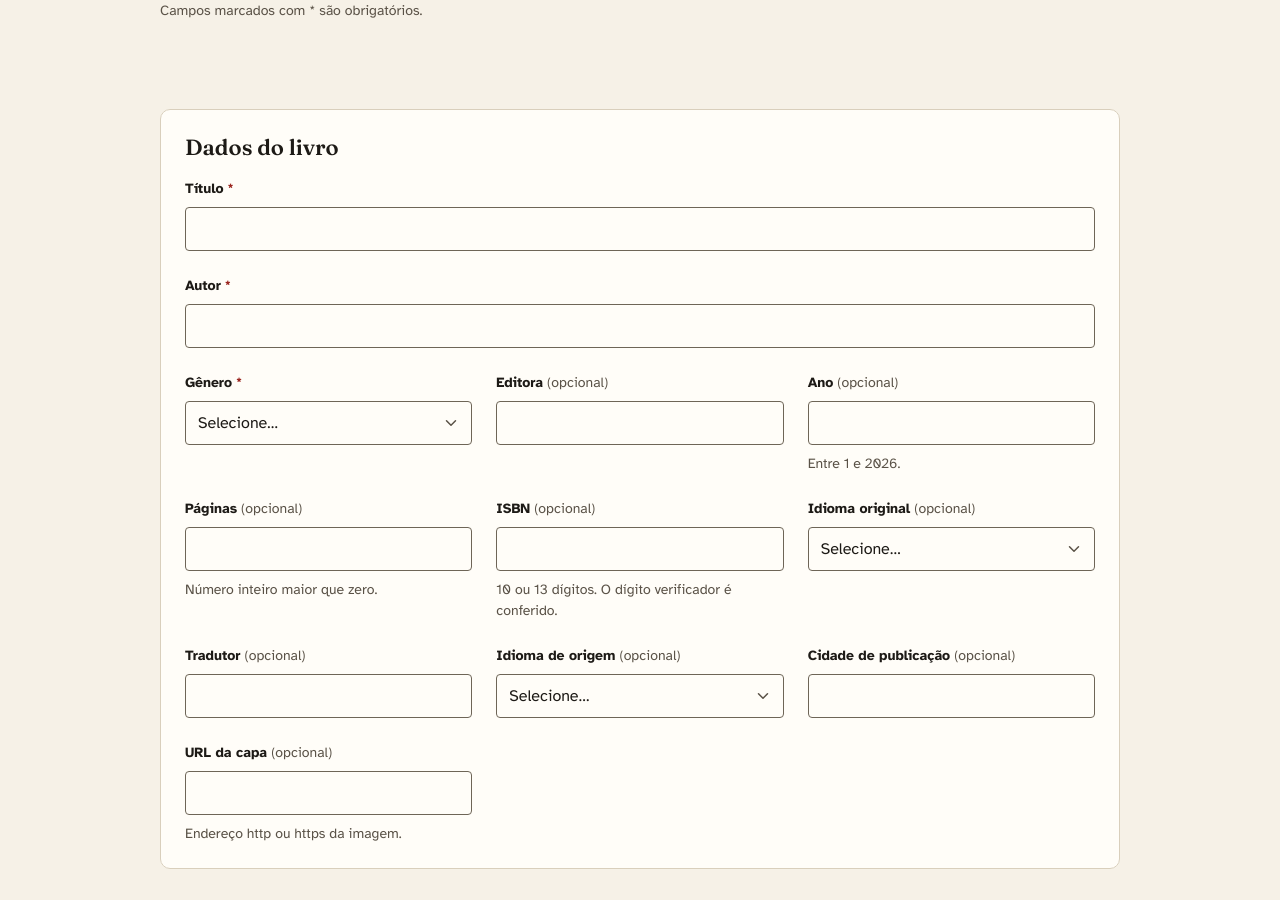
Test: região de status: polida, presente desde o 1º render › anuncia o SUCESSO da submissão
The width and height of the screenshot is (1280, 900).
Type "Dom Casmurro" into the field labelled "Título *".
click(640, 228); type("Dom Casmurro")  # box top-left (185, 206), bottom-right (1095, 250)
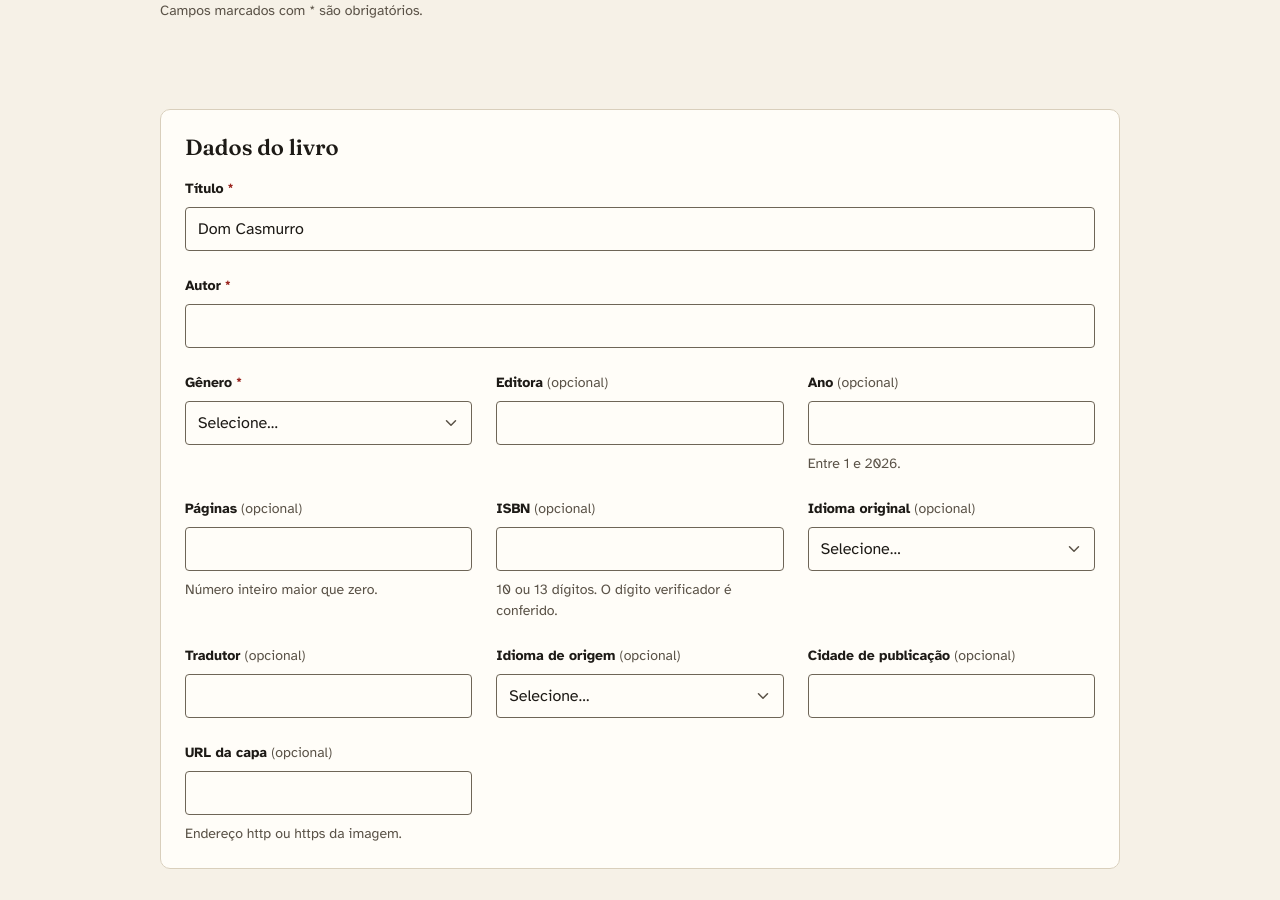
Type "Machado de Assis" into the field labelled "Autor *".
click(640, 326); type("Machado de Assis")  # box top-left (185, 304), bottom-right (1095, 348)
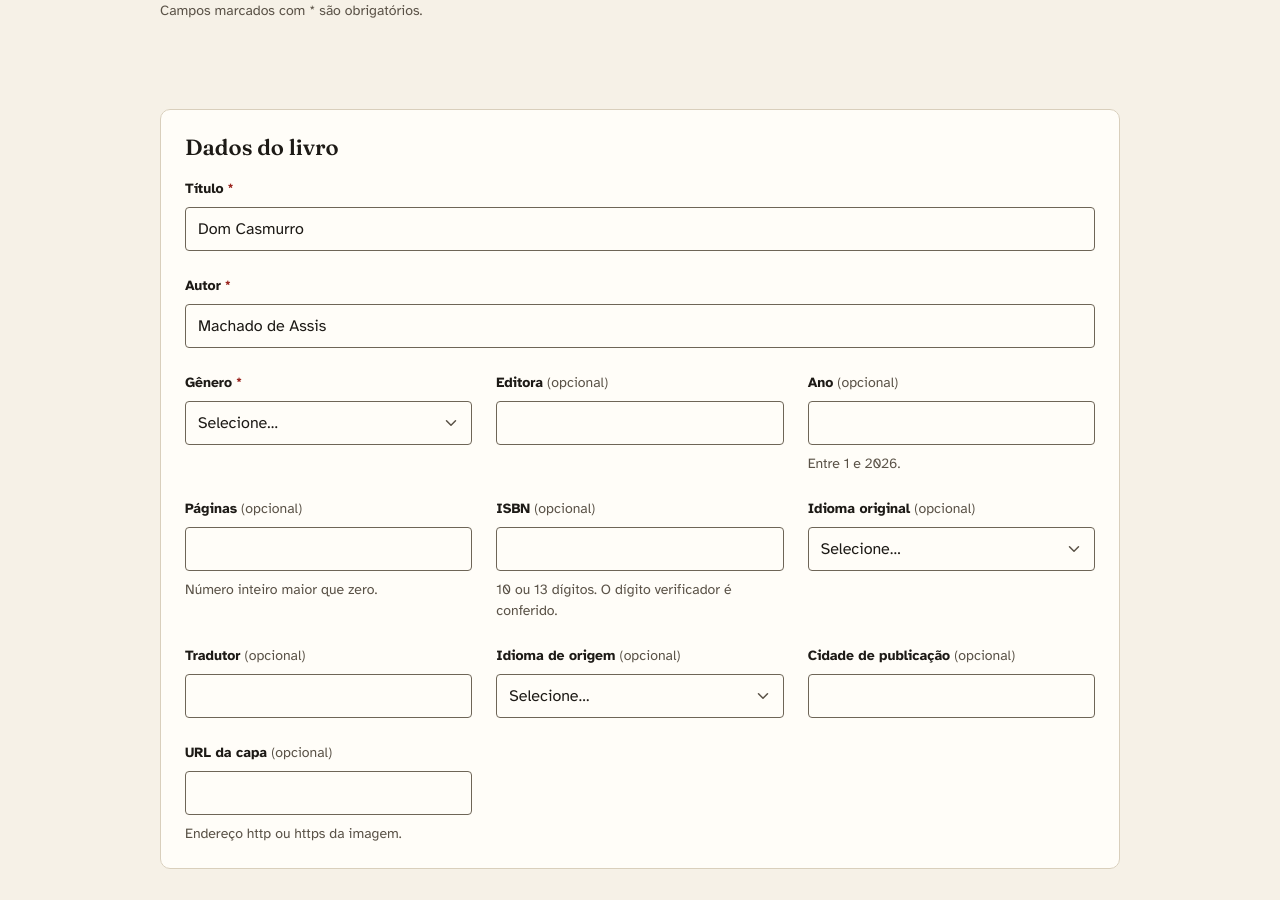
Select "Romance" in the dropdown labelled "Gênero *" at (329, 422), box top-left (185, 400), bottom-right (472, 444)
(page scrolled)
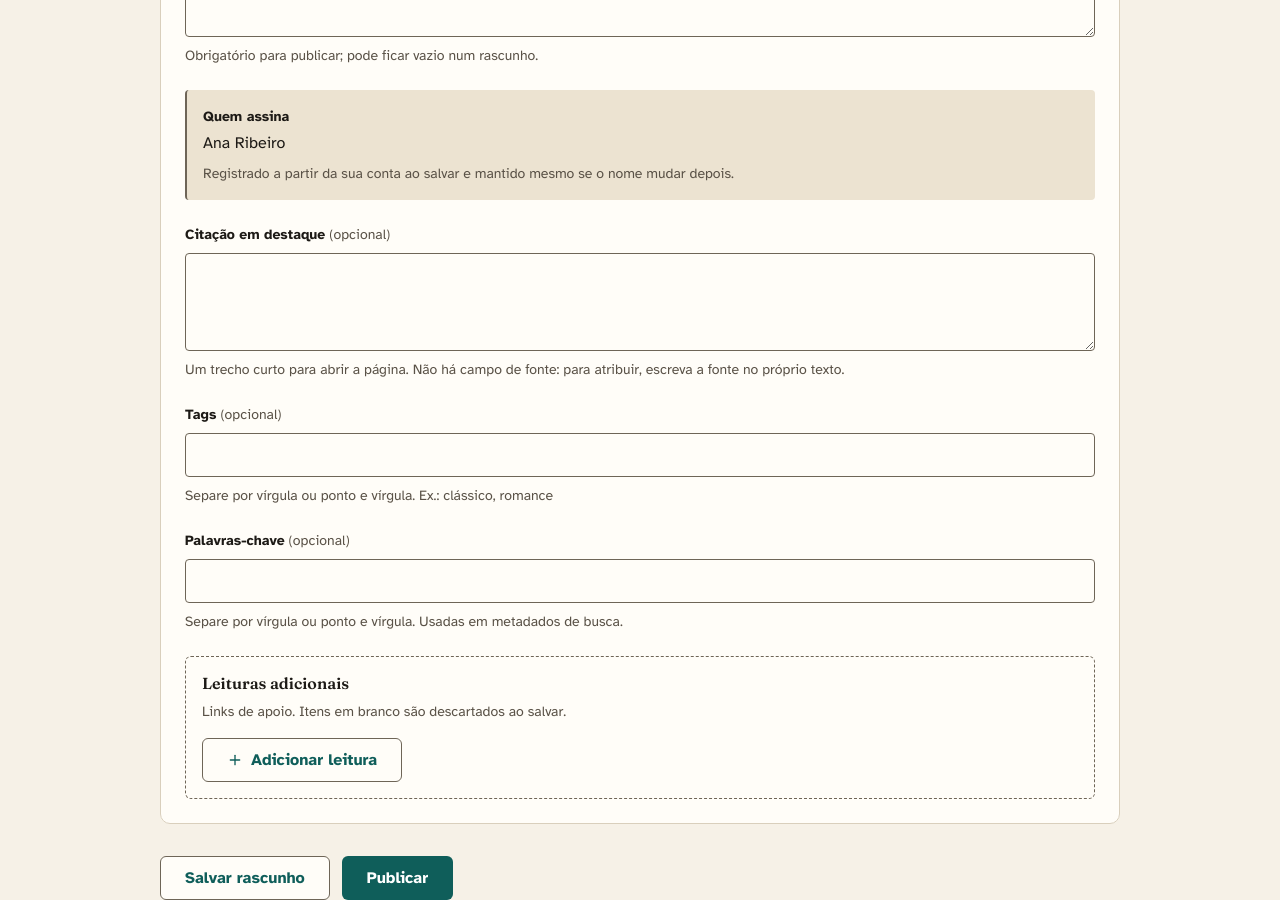
Click the button "Salvar rascunho".
click(245, 878)  # box top-left (160, 856), bottom-right (330, 899)
(page scrolled)
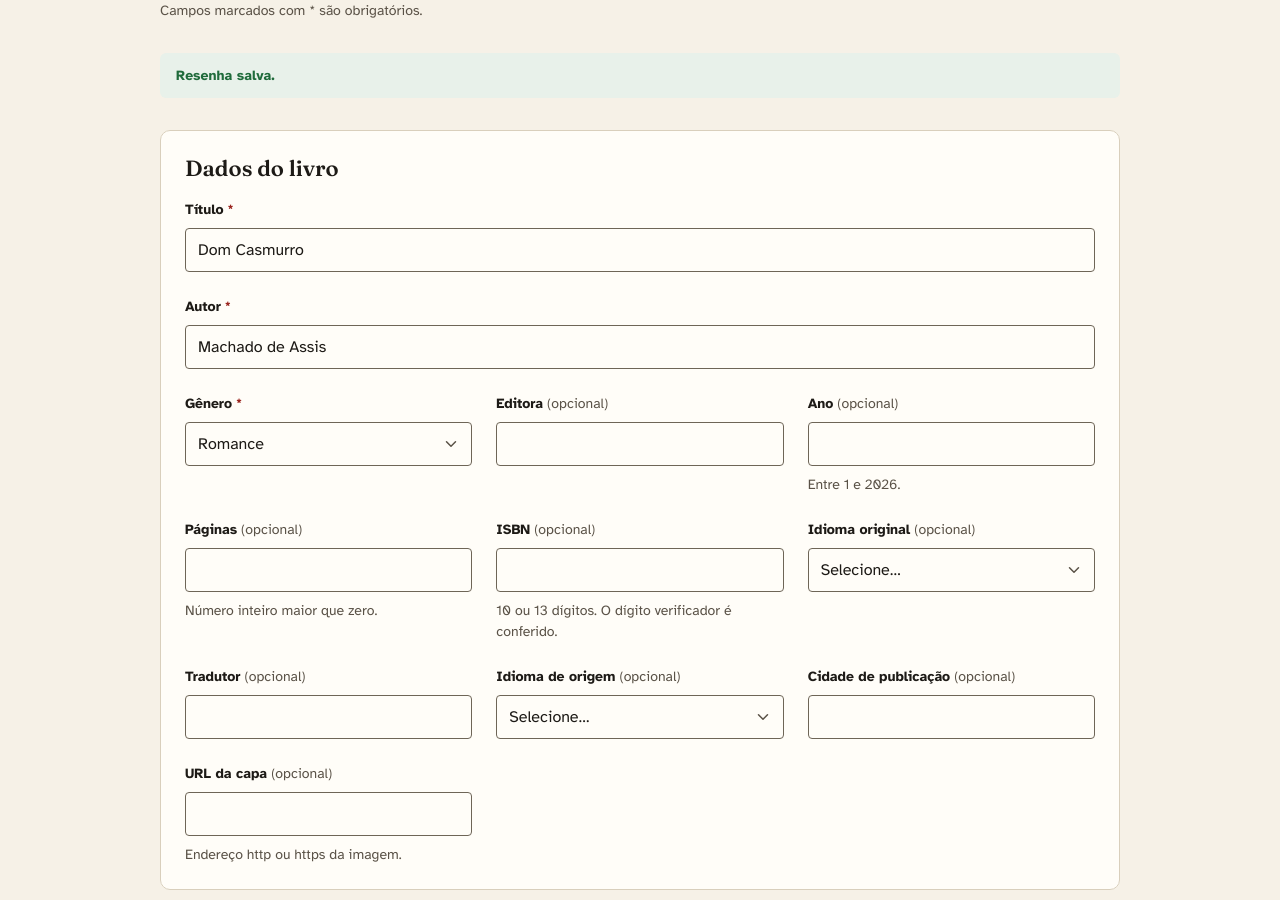
Now the message reads "Resenha salva.", box top-left (176, 67), bottom-right (275, 84)
